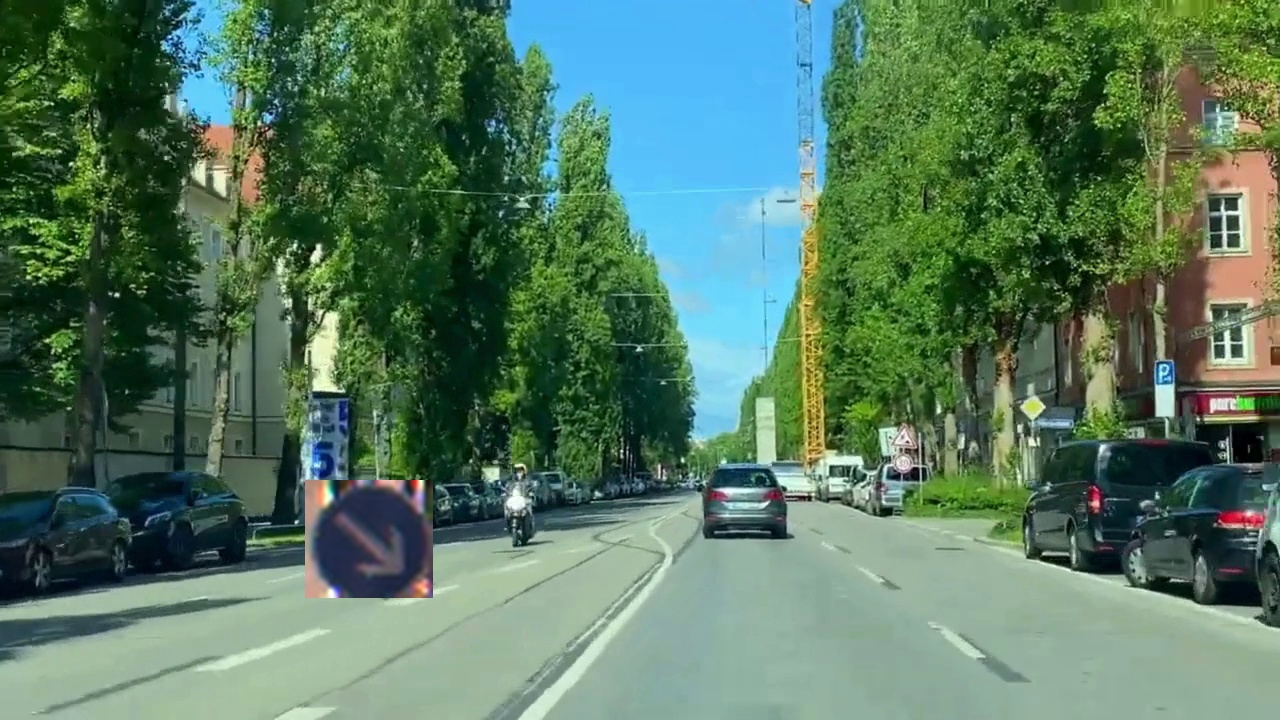Keep right: (305, 480, 433, 598)
